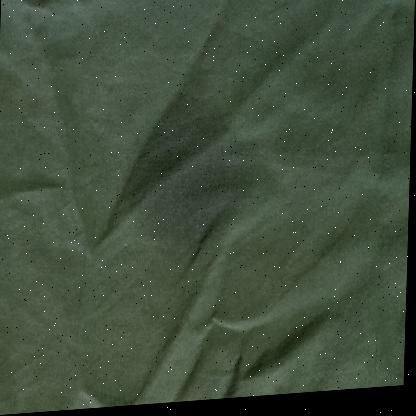spot: (122, 110, 245, 267)
